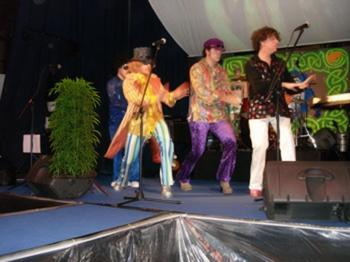person: (240, 24, 316, 197), (113, 46, 189, 199), (175, 37, 243, 197), (108, 59, 145, 191)
pottedplant: (48, 75, 100, 178)
